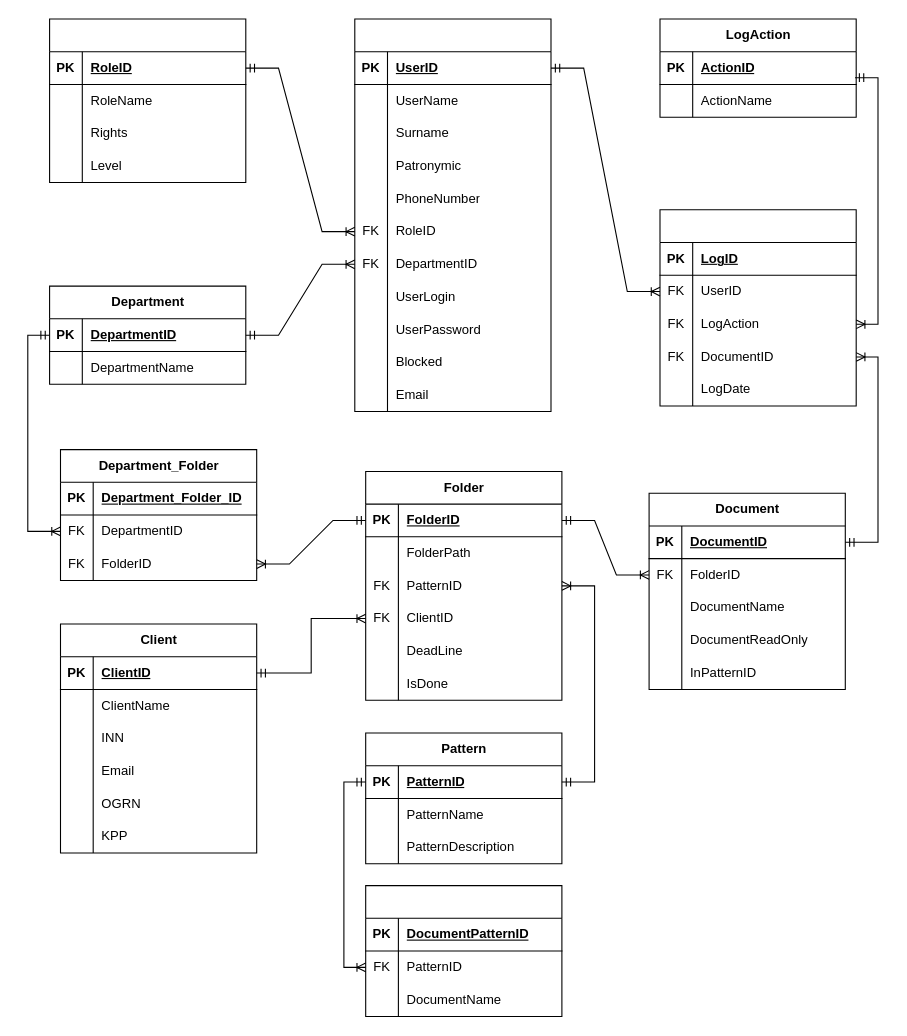
Some shapes in this 907 by 1036 pixel diagram are drawn without their labels. The box of each missing label's shape, as (x1, y1, x2, y2) in pixels:
LogTable: (659, 209, 856, 406)
Required_in_the_pattern: (365, 885, 562, 1016)
RoleTable: (49, 18, 246, 183)
UserTable: (354, 18, 551, 411)
